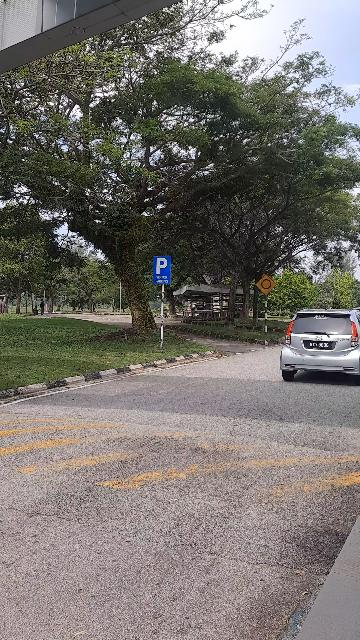License_Plate: (303, 341, 339, 352)
car: (280, 310, 360, 387)
